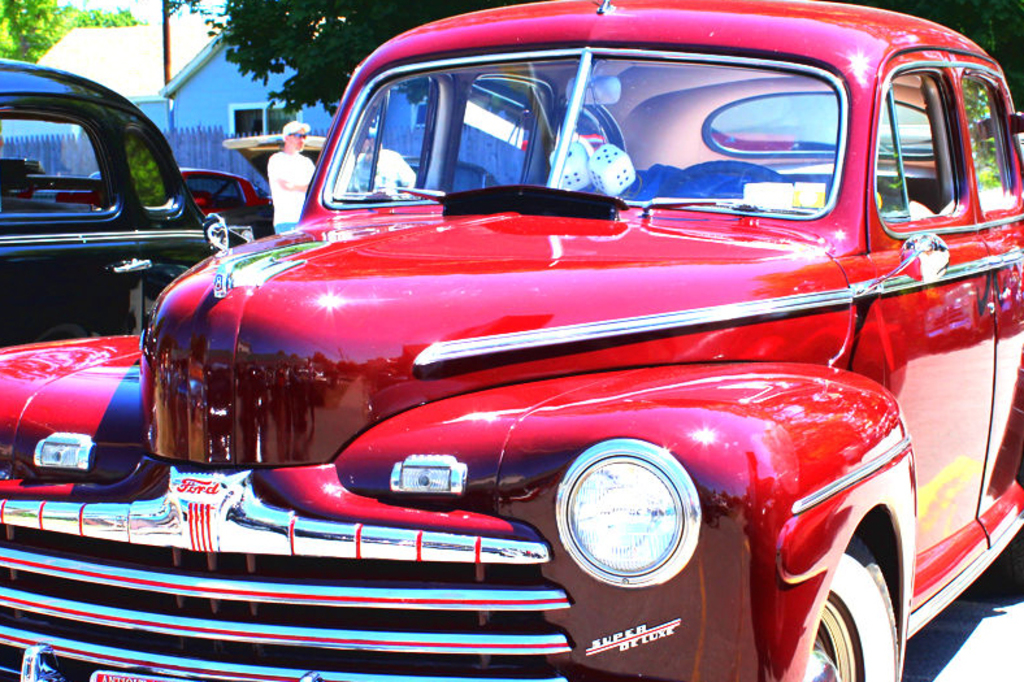Car: (0, 0, 1023, 682), (3, 63, 243, 343), (70, 170, 273, 215)
